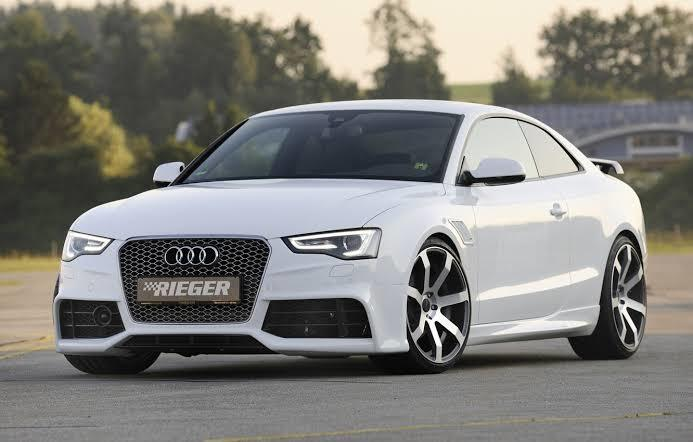audi: (32, 94, 652, 390)
